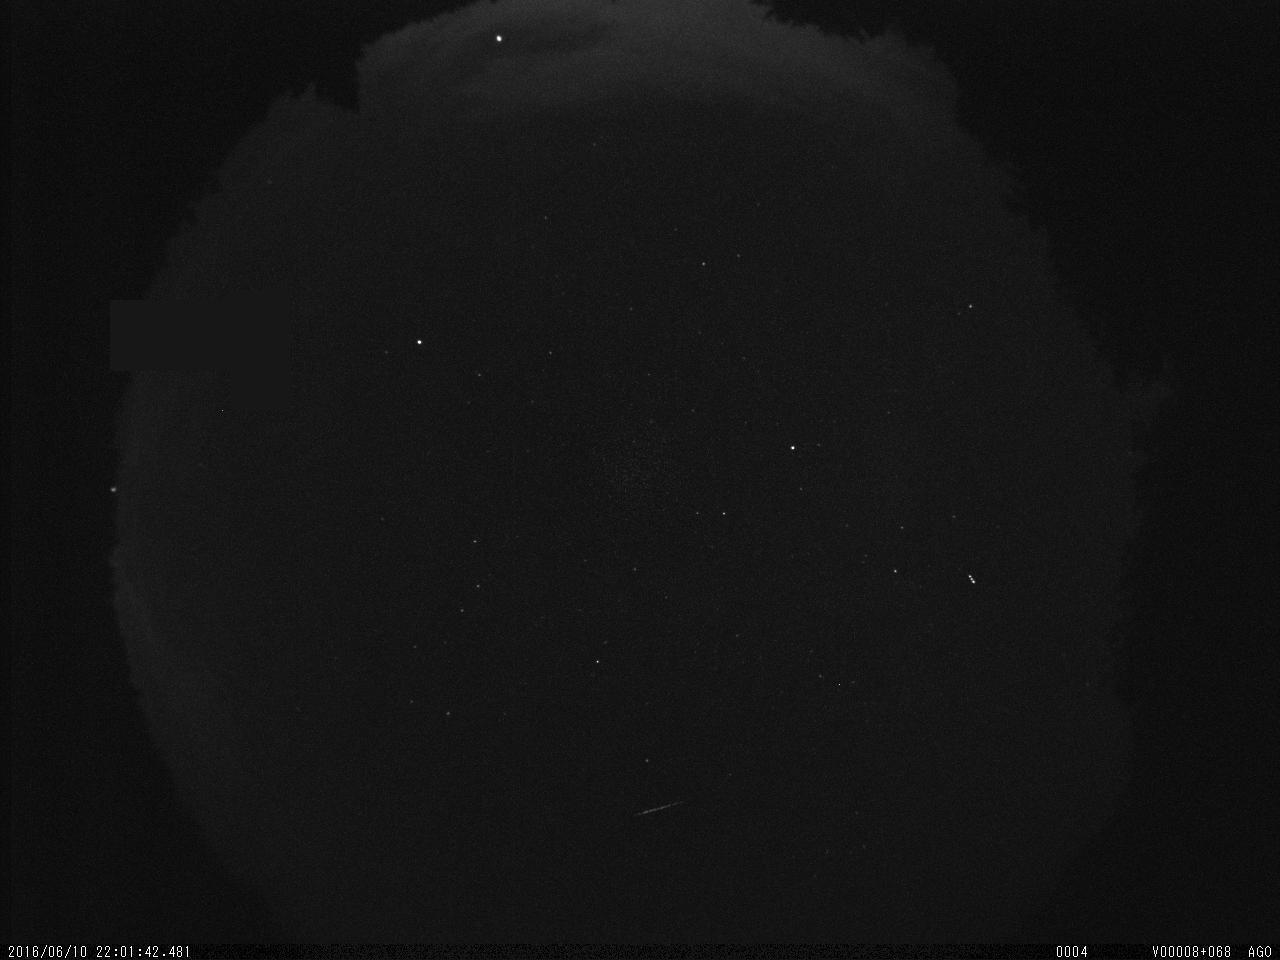meteor: (629, 788, 694, 824)
